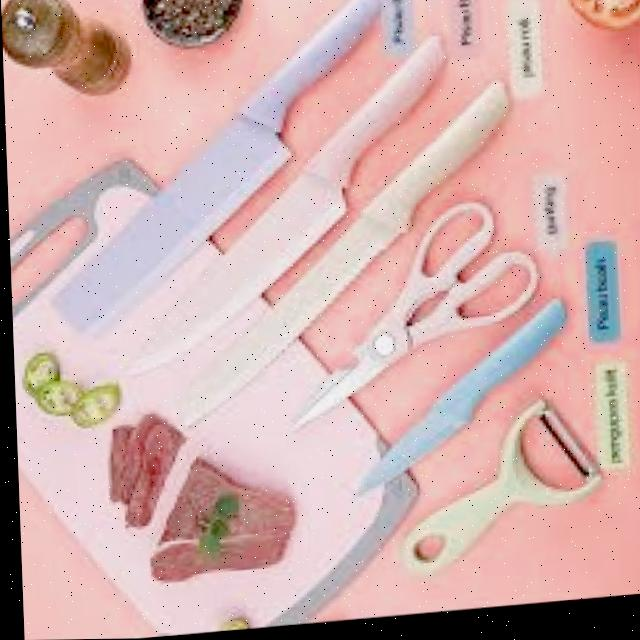knife: (164, 83, 522, 433), (38, 0, 403, 340), (112, 35, 460, 381), (344, 300, 575, 500)
